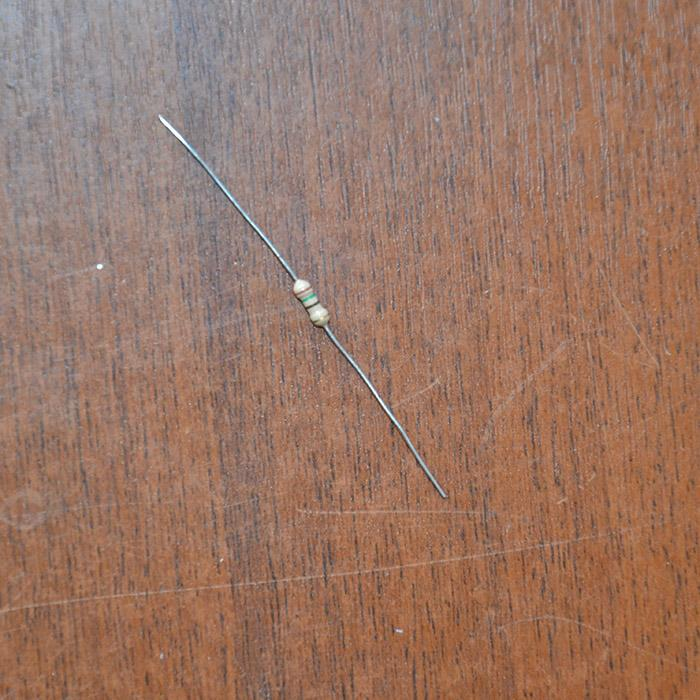resistor: (291, 276, 330, 328)
